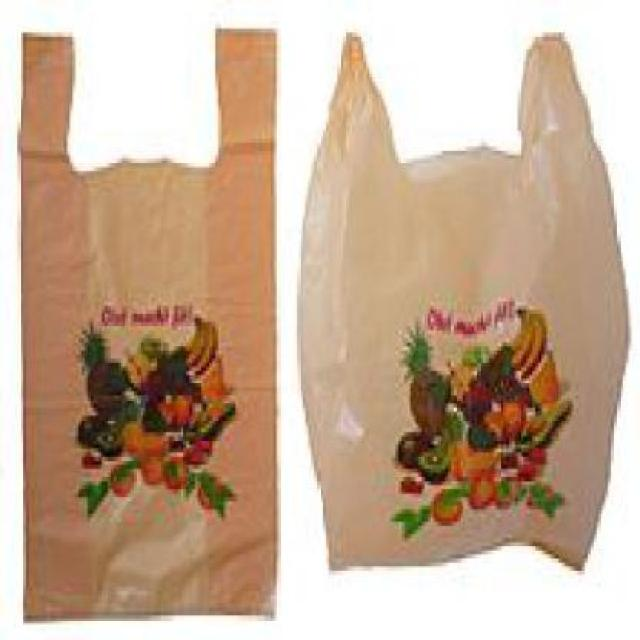plastic bag: (292, 29, 640, 590), (10, 20, 282, 638)
